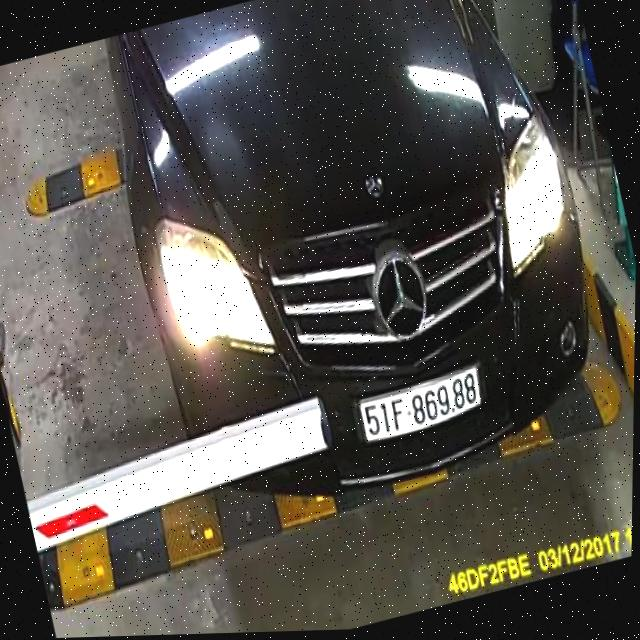car: (82, 0, 631, 536)
plate: (351, 362, 493, 448)
